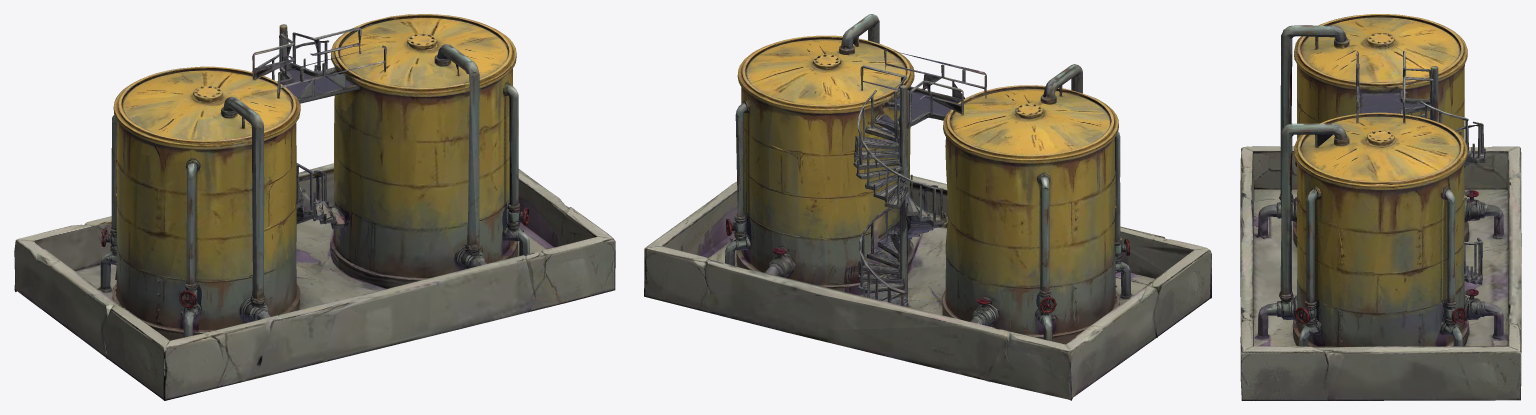
The model's file is tanks.glb.
The picture shows the model from 3 angles, left to right: view 1: azimuth 30°, elevation 25°; view 2: azimuth 150°, elevation 25°; view 3: azimuth 270°, elevation 25°; orthographic projection. The views are drawn at different scales.
Size of the model in its own units: 1.9 by 0.9881 by 1.1.
Materials: 1 (1 with a texture image).
